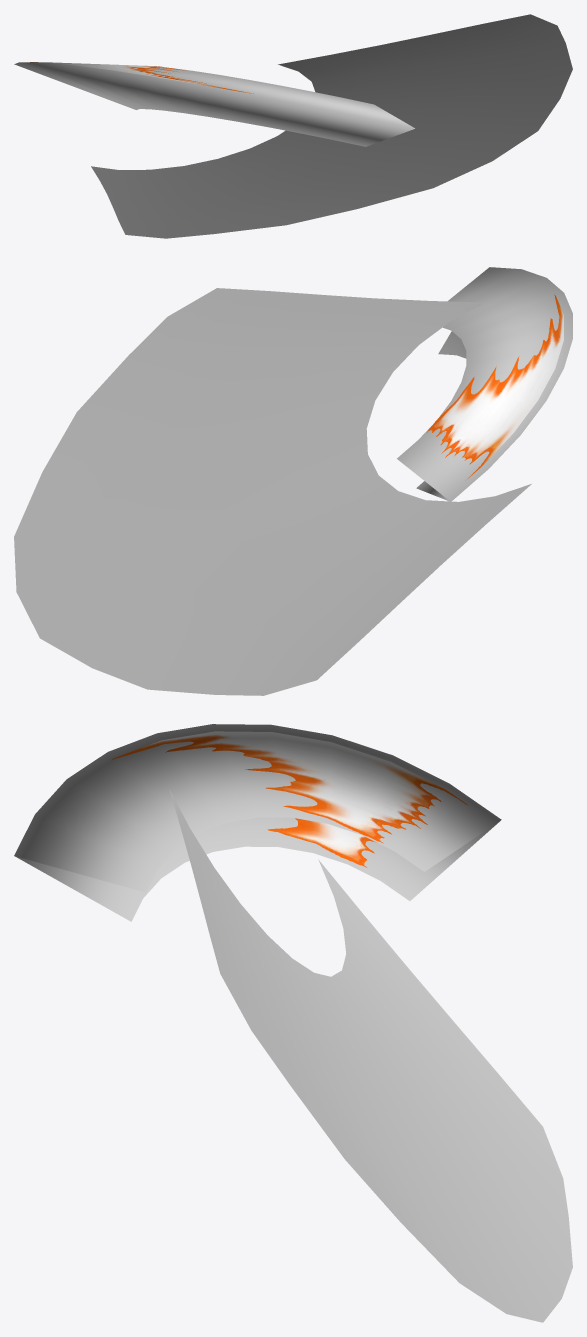
The model's file is fx_cookie0510_skill01.fbx.
3 views of the same model, one above another, from view 1: azimuth 30°, elevation 25°; view 2: azimuth 150°, elevation 25°; view 3: azimuth 270°, elevation 25° (orthographic). The views are drawn at different scales.
Parts seen in each view (by area): view 1: wind, L_scratch2 (1), L_scratch2; view 2: wind, L_scratch2 (1), L_scratch2; view 3: wind, L_scratch2 (1), L_scratch2.
Part boxes in pixels (box(x1,y1,x2,y2)): wind: box(91, 14, 572, 238); L_scratch2 (1): box(14, 62, 414, 146); L_scratch2: box(30, 62, 253, 93); wind: box(14, 288, 531, 695); L_scratch2 (1): box(397, 267, 572, 501); L_scratch2: box(427, 294, 563, 480); wind: box(169, 789, 572, 1322); L_scratch2 (1): box(14, 724, 501, 921); L_scratch2: box(112, 731, 468, 867).
Size of the model in its own units: 1266 by 790 by 1047.
